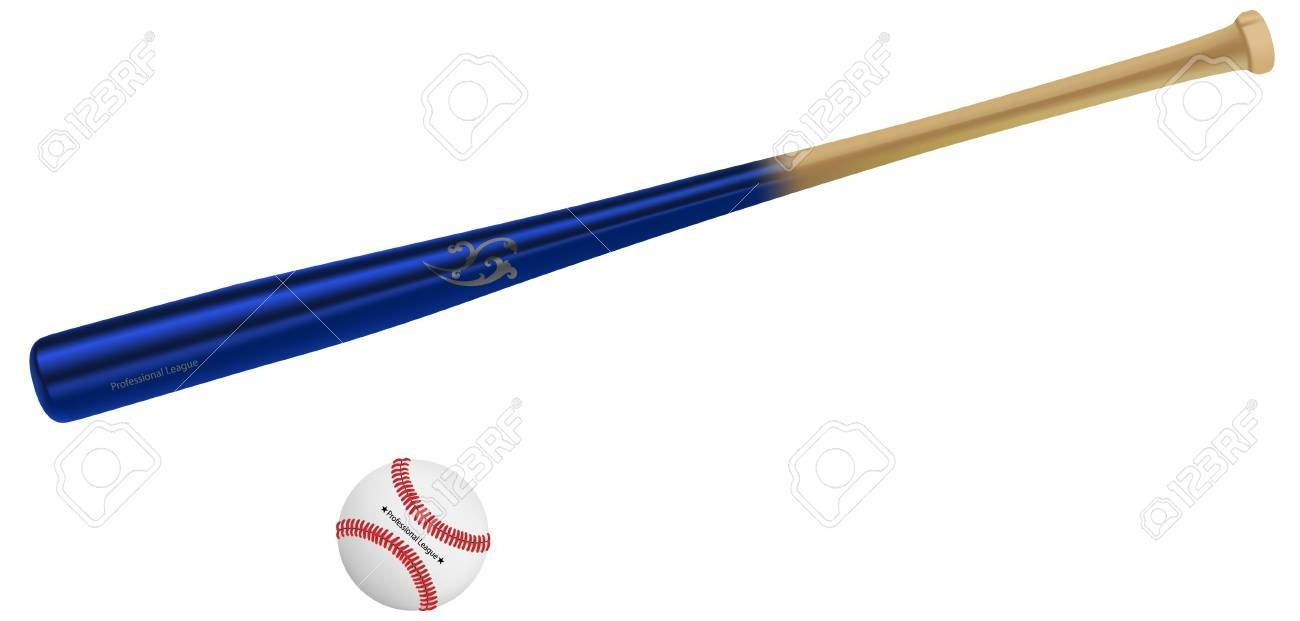bita: (40, 10, 1266, 422)
